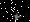person: (8, 8, 26, 22)
